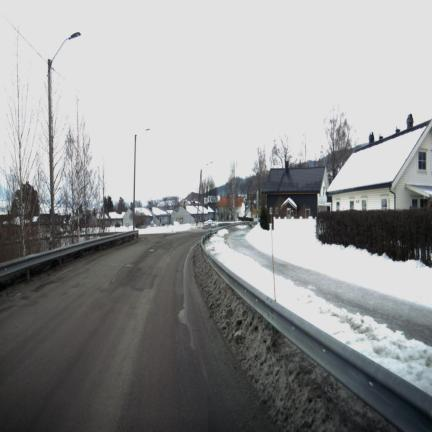Road: (0, 232, 268, 430)
